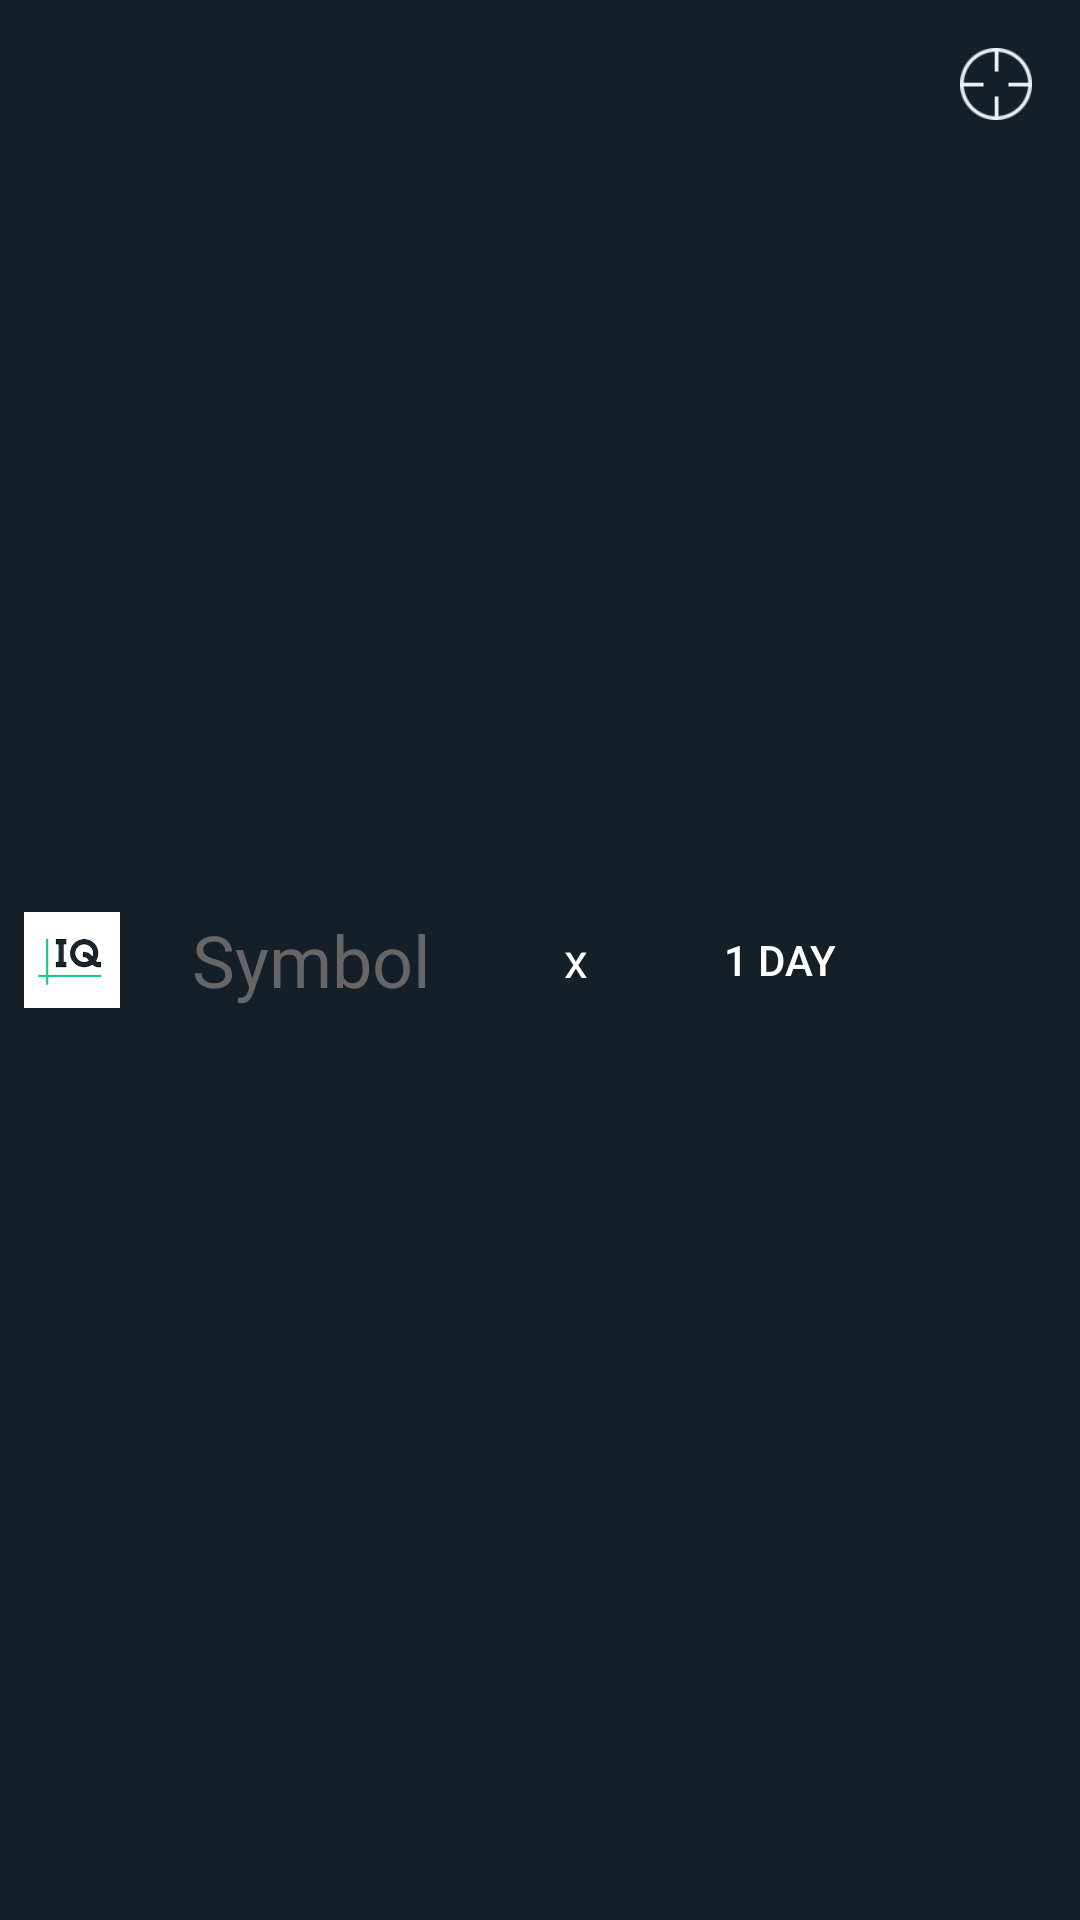

Icon click points for this 1080 x 1920 phone screenshot, format [x,y]:
target off: [996,84]
